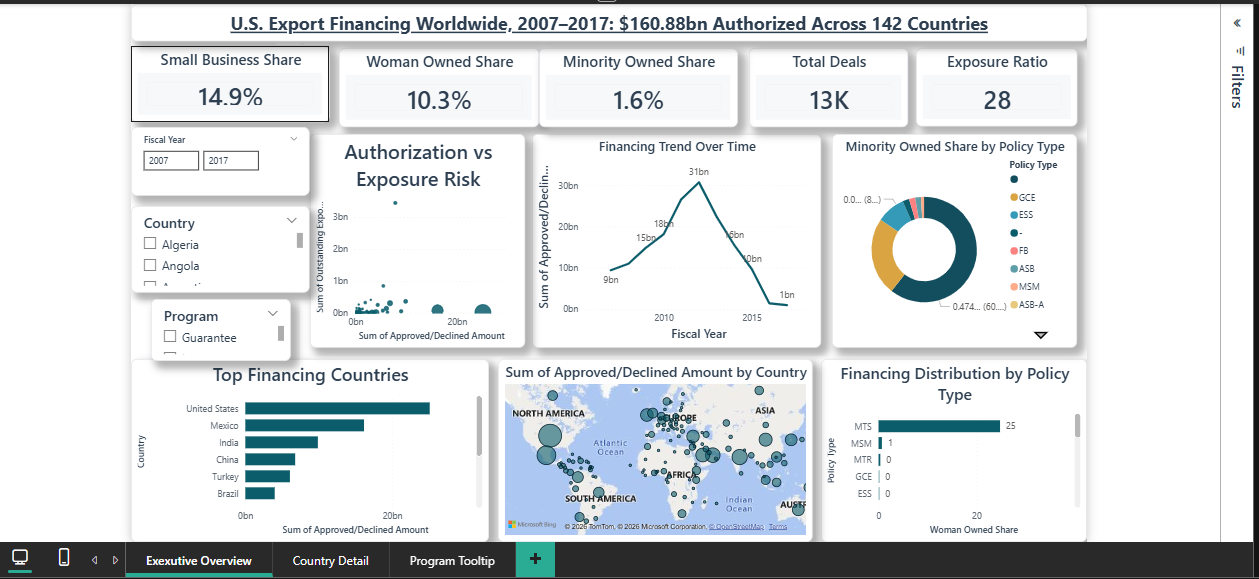

The dashboard page shown, as its layout file describes it:
{"tool":"powerbi","page":{"name":"Exexutive Overview","canvas":[1280,720],"ordinal":0},"visuals":[{"type":"cardVisual","title":"Small Business Share","fields":{"Data":["cleaned_bank_data.Small Business Share"]},"box":[0,56.4,265.6,101.8],"z":0},{"type":"cardVisual","title":"Woman Owned Share","fields":{"Data":["cleaned_bank_data.Woman Owned Share"]},"box":[278.4,58.9,267.7,105.7],"z":1000},{"type":"lineChart","title":"Financing Trend Over Time","fields":{"Y":["Sum(cleaned_bank_data.Approved/Declined Amount)"],"Category":["cleaned_bank_data.Fiscal Year"]},"box":[536.8,173.4,386.8,286.3],"z":2000},{"type":"clusteredBarChart","title":"Top Financing Countries","fields":{"Y":["Sum(cleaned_bank_data.Approved/Declined Amount)"],"Category":["cleaned_bank_data.Country"]},"box":[0,474.8,479,245],"z":3000},{"type":"clusteredBarChart","title":"Financing Distribution by Policy Type","fields":{"Category":["cleaned_bank_data.Policy Type"],"Y":["cleaned_bank_data.Woman Owned Share"]},"box":[923.5,474.8,356.5,245],"z":4000},{"type":"cardVisual","title":"Total Deals","fields":{"Data":["cleaned_bank_data.Total Deals+"]},"box":[827.2,59.2,213.3,106],"z":5000},{"type":"cardVisual","title":"Minority Owned Share","fields":{"Data":["cleaned_bank_data.Minority Owned Share"]},"box":[546.4,59.2,265.6,106],"z":6000},{"type":"scatterChart","title":"Authorization vs Exposure Risk","fields":{"Y":["Sum(cleaned_bank_data.Outstanding Exposure Amount)"],"X":["Sum(cleaned_bank_data.Approved/Declined Amount)"],"Category":["cleaned_bank_data.Country"],"Size":["cleaned_bank_data.Total Deals+"]},"box":[257.7,173.4,269.7,301],"z":7000},{"type":"map","fields":{"Category":["cleaned_bank_data.Country"],"Size":["Sum(cleaned_bank_data.Approved/Declined Amount)"]},"box":[491.4,474.8,421.2,245],"z":8000},{"type":"cardVisual","title":"Exposure Ratio","fields":{"Data":["Sum(cleaned_bank_data.Exposure Ratio)","select"]},"box":[1050.2,59.2,216.1,104.6],"z":9000},{"type":"donutChart","fields":{"Category":["cleaned_bank_data.Policy Type"],"Y":["cleaned_bank_data.Minority Owned Share"]},"box":[938.7,173.4,327.6,286.3],"z":10000},{"type":"slicer","fields":{"Values":["cleaned_bank_data.Fiscal Year"]},"box":[0,158.9,239.6,110.8],"z":11000},{"type":"slicer","fields":{"Values":["cleaned_bank_data.Country"]},"box":[0,269.7,239.6,115.6],"z":12000},{"type":"slicer","fields":{"Values":["cleaned_bank_data.Program"]},"box":[0,385.3,239.6,89.1],"z":13000},{"type":"textbox","box":[0,0,1280,49.5],"z":14000}]}

Visuals, with their boxes on the page's 1280x720 design canvas (x1, y1, x2, y2). These are canvas units, not pixel positions in the 1259x579 screenshot, which may show the page scaled, cropped or inside an application window:
"Small Business Share" cardVisual: [0,56,266,158]
"Woman Owned Share" cardVisual: [278,59,546,165]
"Financing Trend Over Time" lineChart: [537,173,924,460]
"Top Financing Countries" clusteredBarChart: [0,475,479,720]
"Financing Distribution by Policy Type" clusteredBarChart: [924,475,1280,720]
"Total Deals" cardVisual: [827,59,1040,165]
"Minority Owned Share" cardVisual: [546,59,812,165]
"Authorization vs Exposure Risk" scatterChart: [258,173,527,474]
map - cleaned_bank_data.Country x Sum(cleaned_bank_data.Approved/Declined Amount): [491,475,913,720]
"Exposure Ratio" cardVisual: [1050,59,1266,164]
donutChart - cleaned_bank_data.Policy Type x cleaned_bank_data.Minority Owned Share: [939,173,1266,460]
slicer - cleaned_bank_data.Fiscal Year: [0,159,240,270]
slicer - cleaned_bank_data.Country: [0,270,240,385]
slicer - cleaned_bank_data.Program: [0,385,240,474]
textbox: [0,0,1280,50]
